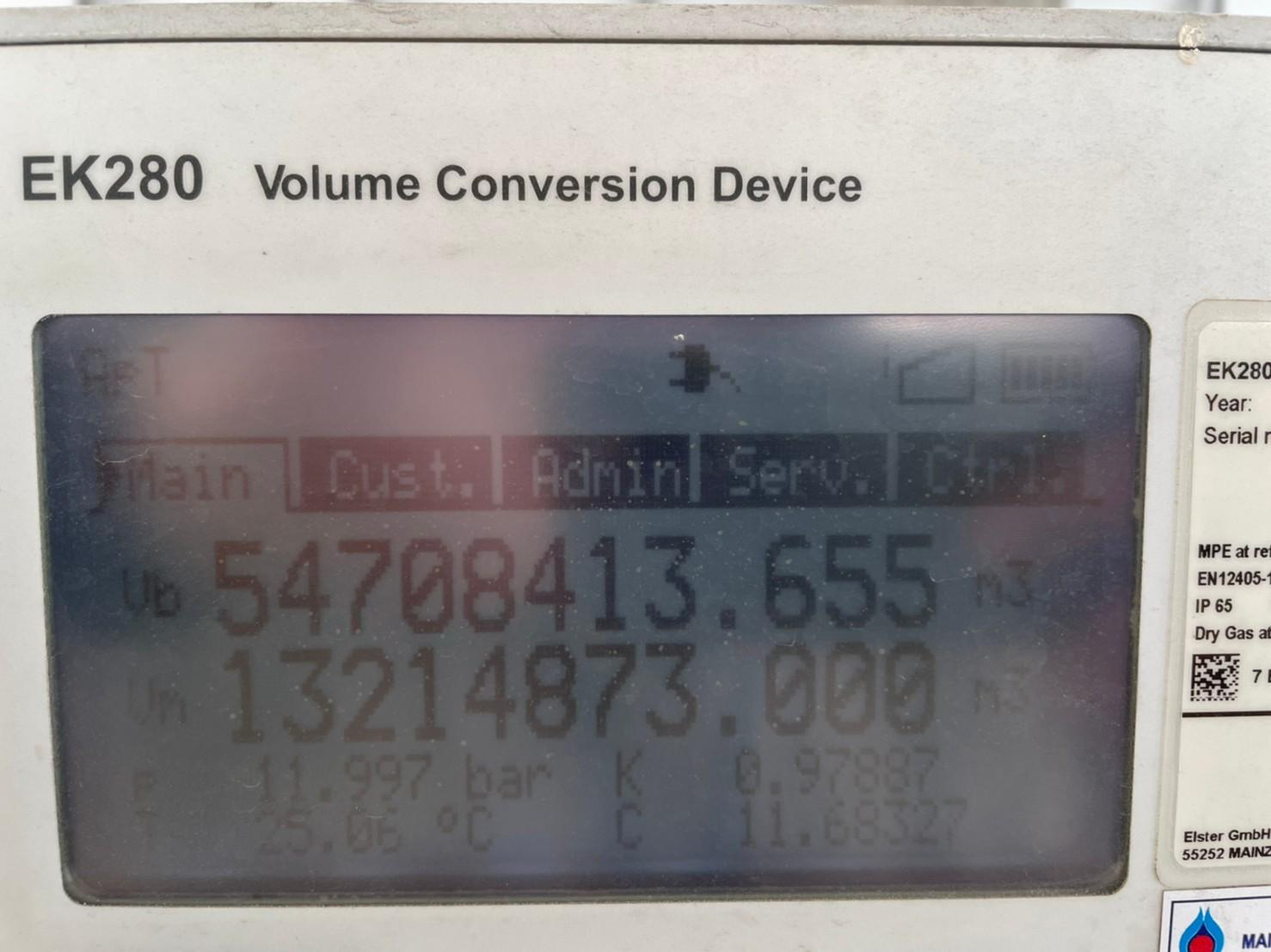digital_screen: (37, 320, 1147, 901)
